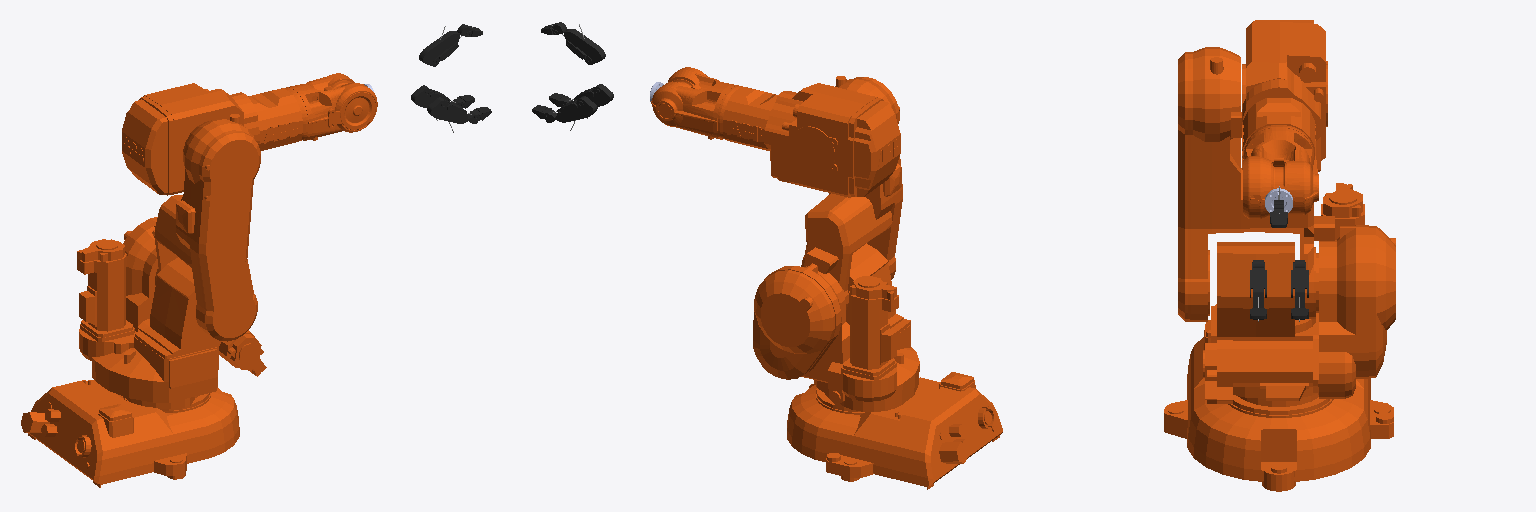
--- Render facts (derived) ---
3 views of the same robot in one strip: view 1: azimuth 30°, elevation 25°; view 2: azimuth 150°, elevation 25°; view 3: azimuth 270°, elevation 25° (orthographic).
Robot: IRB140 — 41 links, 40 joints (18 revolute, 18 continuous, 4 fixed); root link base_link; default pose: all joints at 0 but 3 set to mid-range because 0 is outside their limits (finger_1_fourbar_0_joint_0 = -1.18, finger_2_fourbar_0_joint_0 = -1.18, finger_middle_fourbar_0_joint_0 = -1.18).
Links seen in each view (by area): view 1: link_1, link_2, base_link, link_3, link_4, finger_middle_link_1, finger_2_link_1; view 2: link_1, base_link, link_3, link_2, link_4, finger_middle_link_1, finger_1_link_1; view 3: link_1, link_2, base_link, link_3, link_4, finger_1_link_1, finger_2_link_1.
Boxes of the visible links, x1,y1,x2,y2 form: link_1: [77, 217, 266, 410]; link_2: [152, 114, 260, 341]; base_link: [21, 380, 239, 487]; link_3: [122, 83, 302, 195]; link_4: [285, 73, 377, 140]; finger_middle_link_1: [419, 31, 460, 66]; finger_2_link_1: [427, 97, 468, 123]; link_1: [753, 243, 919, 411]; base_link: [787, 372, 1002, 489]; link_3: [723, 83, 900, 197]; link_2: [801, 76, 902, 309]; link_4: [651, 67, 741, 139]; finger_middle_link_1: [564, 29, 605, 64]; finger_1_link_1: [555, 96, 597, 122]; link_1: [1203, 183, 1395, 414]; link_2: [1178, 47, 1334, 321]; base_link: [1164, 320, 1393, 491]; link_3: [1231, 20, 1327, 171]; link_4: [1242, 125, 1318, 218]; finger_1_link_1: [1291, 260, 1308, 307]; finger_2_link_1: [1250, 260, 1266, 307].
Size in the robot's own frame: 1.11 by 0.4054 by 0.8342 metres.
13 mesh visuals loaded from 12 distinct referenced files (9 binary STL); not drawn: 7 (reference not matched to a file when rendering).

The robot description file, URDF, robot "IRB140":
<?xml version="1.0"?>
<!-- =================================================================================== -->
<!-- |    This document was autogenerated by xacro from irb_140_robotiq.xacro          | -->
<!-- |    EDITING THIS FILE BY HAND IS NOT RECOMMENDED                                 | -->
<!-- =================================================================================== -->
<robot xmlns:xacro="http://ros.org/wiki/xacro" name="IRB140">
  <link name="base_link">
    <inertial>
      <origin rpy="-1.57079 0 0" xyz="-0.0820393251688425 -0.0599247343482246 0.000402028640224033"/>
      <mass value="12.409016159487"/>
      <inertia ixx="0.104502176006253" ixy="0.00734284655670482" ixz="1.00520827530156E-05" iyy="0.246486764065977" iyz="0.000843006810157312" izz="0.16727784258504"/>
    </inertial>
    <visual>
      <origin rpy="-1.57079 0 0" xyz="0 0 0"/>
      <geometry>
        <mesh filename="package://IRB140/urdf/meshes/base_link.stl"/>
      </geometry>
      <material name="">
        <color rgba="0.890196078431373 0.411764705882353 0.125490196078431 1"/>
      </material>
    </visual>
    <collision>
      <origin rpy="-1.57079 0 0" xyz="0 0 0"/>
      <geometry>
        <mesh filename="package://IRB140/urdf/meshes/base_link.stl"/>
      </geometry>
    </collision>
  </link>
  <collision_filter_group name="base">
    <member link="base_link"/>
  </collision_filter_group>
  <collision_filter_group name="ignore_base">
    <member link="link_1"/>
  </collision_filter_group>
  <link name="link_1">
    <inertial>
      <origin rpy="0 0 0" xyz="0.0281052735195531 -0.263404021764231 0.0438145912936454"/>
      <mass value="16.287755696602"/>
      <inertia ixx="0.239763088891016" ixy="-0.0247090810274521" ixz="0.000698689923332581" iyy="0.215279593840589" iyz="-0.0324602456686847" izz="0.21738294278782"/>
    </inertial>
    <visual>
      <origin rpy="0 0 0" xyz="0 0.1095 0"/>
      <geometry>
        <mesh filename="package://IRB140/urdf/meshes/link1.stl"/>
      </geometry>
      <material name="">
        <color rgba="0.890196078431373 0.411764705882353 0.125490196078431 1"/>
      </material>
    </visual>
    <collision>
      <origin rpy="0 0 0" xyz="0 0.1095 0"/>
      <geometry>
        <mesh filename="package://IRB140/urdf/meshes/link1.stl"/>
      </geometry>
    </collision>
  </link>
  <link name="link_2">
    <inertial>
      <origin rpy="0 0 0" xyz="0.0602722328661623 -0.550288012476887 -0.0924337165442594"/>
      <mass value="7.58037424484438"/>
      <inertia ixx="0.155736578403723" ixy="-0.0018292494088038" ixz="-0.000516100043145016" iyy="0.0449374006069967" iyz="0.0179772597993246" izz="0.131499062854069"/>
    </inertial>
    <visual>
      <origin rpy="0 0 0" xyz="-0.07 0.352 0"/>
      <geometry>
        <mesh filename="package://IRB140/urdf/meshes/link2.stl"/>
      </geometry>
      <material name="">
        <color rgba="0.890196078431373 0.411764705882353 0.125490196078431 1"/>
      </material>
    </visual>
    <collision>
      <origin rpy="0 0 0" xyz="-0.07 0.352 0"/>
      <geometry>
        <mesh filename="package://IRB140/urdf/meshes/link2.stl"/>
      </geometry>
    </collision>
  </link>
  <link name="link_3">
    <inertial>
      <origin rpy="0 0 0" xyz="0.0895840773879386 -0.706321963929838 0.00750781548417993"/>
      <mass value="8.03072730997701"/>
      <inertia ixx="0.0322819185861096" ixy="0.00189304098071818" ixz="-0.00301812650515099" iyy="0.0862439596837411" iyz="0.000363121583074651" izz="0.0941344479457789"/>
    </inertial>
    <visual>
      <origin rpy="0 0 0" xyz="-0.07 0.712 0"/>
      <geometry>
        <mesh filename="package://IRB140/urdf/meshes/link3.stl"/>
      </geometry>
      <material name="">
        <color rgba="0.890196078431373 0.411764705882353 0.125490196078431 1"/>
      </material>
    </visual>
    <collision>
      <origin rpy="0 0 0" xyz="-0.07  0.712 0"/>
      <geometry>
        <mesh filename="package://IRB140/urdf/meshes/link3.stl"/>
      </geometry>
    </collision>
  </link>
  <link name="link_4">
    <inertial>
      <origin rpy="0 0 0" xyz="0.381567778909365 -0.710566670346653 -0.0012125731023236"/>
      <mass value="1.7702548022269"/>
      <inertia ixx="0.00345886724545012" ixy="-5.89845314013543E-05" ixz="-0.000204665310780048" iyy="0.00814796317500158" iyz="3.05102860299544E-06" izz="0.00727417938725734"/>
    </inertial>
    <visual>
      <origin rpy="0 0 0" xyz="-0.2885 0.712 0"/>
      <geometry>
        <mesh filename="package://IRB140/urdf/meshes/link4.stl"/>
      </geometry>
      <material name="">
        <color rgba="0.890196078431373 0.411764705882353 0.125490196078431 1"/>
      </material>
    </visual>
    <collision>
      <origin rpy="0 0 0" xyz="-0.2885 0.712 0"/>
      <geometry>
        <mesh filename="package://IRB140/urdf/meshes/link4.stl"/>
      </geometry>
    </collision>
  </link>
  <link name="link_5">
    <inertial>
      <origin rpy="0 0 0" xyz="0.4486171436144 -0.711838316531129 0.000617034654940496"/>
      <mass value="0.145550520315438"/>
      <inertia ixx="7.1482542749252E-05" ixy="4.08865519403599E-07" ixz="1.24002244883737E-07" iyy="6.88353185385481E-05" iyz="-1.00702333671187E-08" izz="0.000112132445217078"/>
    </inertial>
    <visual>
      <origin rpy="0 0 0" xyz="-0.450 0.712 0"/>
      <geometry>
        <mesh filename="package://IRB140/urdf/meshes/link5.stl"/>
      </geometry>
      <material name="">
        <color rgba="0.890196078431373 0.411764705882353 0.125490196078431 1"/>
      </material>
    </visual>
    <collision>
      <origin rpy="0 0 0" xyz="-0.450 0.712 0"/>
      <geometry>
        <mesh filename="package://IRB140/urdf/meshes/link5.stl"/>
      </geometry>
    </collision>
  </link>
  <link name="link_6">
    <inertial>
      <origin rpy="0 0 0" xyz="0.502059432845099 -0.711774967143511 2.38785136319277E-10"/>
      <mass value="0.0258654328719498"/>
      <inertia ixx="5.9822143548355E-06" ixy="4.58244484401765E-08" ixz="-3.33091906738059E-13" iyy="6.2921914507958E-06" iyz="6.75626369217644E-13" izz="6.17479327327778E-06"/>
    </inertial>
    <visual>
      <origin rpy="0 0 0" xyz="-0.515 0.712 0"/>
      <geometry>
        <mesh filename="package://IRB140/urdf/meshes/link6.stl"/>
      </geometry>
      <material name="">
        <color rgba="0.796078431372549 0.823529411764706 0.937254901960784 1"/>
      </material>
    </visual>
    <collision>
      <origin rpy="0 0 0" xyz="-0.515 0.712 0"/>
      <geometry>
        <mesh filename="package://IRB140/urdf/meshes/link6.stl"/>
      </geometry>
    </collision>
  </link>
  <joint name="joint1" type="revolute">
    <parent link="base_link"/>
    <child link="link_1"/>
    <limit effort="300" lower="-3.14159265359" upper="3.14159265359" velocity="4.36"/>
    <axis xyz="0 -1 0"/>
    <origin rpy="-1.57079 0 0" xyz="0 0 0.1095"/>
  </joint>
  <joint name="joint2" type="revolute">
    <parent link="link_1"/>
    <child link="link_2"/>
    <limit effort="300" lower="-1.57079633" upper="1.91986218" velocity="4.36"/>
    <axis xyz="0 0 1"/>
    <origin rpy="0 0 0" xyz="0.07 -0.2425 0"/>
  </joint>
  <joint name="joint3" type="revolute">
    <parent link="link_2"/>
    <child link="link_3"/>
    <limit effort="300" lower="-4.01425728" upper="0.87266463" velocity="4.36"/>
    <axis xyz="0 0 1"/>
    <origin rpy="0 0 0" xyz="0 -0.360 0"/>
  </joint>
  <joint name="joint4" type="revolute">
    <parent link="link_3"/>
    <child link="link_4"/>
    <limit effort="300" lower="-3.49065850" upper="3.49065850" velocity="5.58"/>
    <axis xyz="1 0 0"/>
    <origin rpy="0 0 0" xyz="0.2185 0 0"/>
  </joint>
  <joint name="joint5" type="revolute">
    <parent link="link_4"/>
    <child link="link_5"/>
    <limit effort="300" lower="-2.09439510" upper="2.09439510" velocity="5.58"/>
    <axis xyz="0 0 -1"/>
    <origin rpy="0 0 0" xyz="0.1615 0 0"/>
  </joint>
  <joint name="joint6" type="revolute">
    <parent link="link_5"/>
    <child link="link_6"/>
    <limit effort="300" lower="-6.98131701" upper="6.98131701" velocity="7.33"/>
    <axis xyz="1 0 0"/>
    <origin rpy="0 0 0" xyz="0.065 0 0"/>
  </joint>
  <transmission name="joint1_trans" type="SimpleTransmission">
    <joint name="joint1"/>
    <actuator name="joint1_motor"/>
    <mechanicalReduction>1</mechanicalReduction>
  </transmission>
  <transmission name="joint2_trans" type="SimpleTransmission">
    <joint name="joint2"/>
    <actuator name="joint2_motor"/>
    <mechanicalReduction>1</mechanicalReduction>
  </transmission>
  <transmission name="joint3_trans" type="SimpleTransmission">
    <joint name="joint3"/>
    <actuator name="joint3_motor"/>
    <mechanicalReduction>1</mechanicalReduction>
  </transmission>
  <transmission name="joint4_trans" type="SimpleTransmission">
    <joint name="joint4"/>
    <actuator name="joint4_motor"/>
    <mechanicalReduction>1</mechanicalReduction>
  </transmission>
  <transmission name="joint5_trans" type="SimpleTransmission">
    <joint name="joint5"/>
    <actuator name="joint5_motor"/>
    <mechanicalReduction>1</mechanicalReduction>
  </transmission>
  <transmission name="joint6_trans" type="SimpleTransmission">
    <joint name="joint6"/>
    <actuator name="joint6_motor"/>
    <mechanicalReduction>1</mechanicalReduction>
  </transmission>
  <link name="finger_1_link_0">
    <visual>
      <origin rpy="0 0 0" xyz="0.020 0 0"/>
      <geometry>
        <mesh filename="package://Atlas/urdf/meshes/s-model_articulated/visual/link_0.STL"/>
      </geometry>
      <material name="black">
        <color rgba=".2 .2 .2 1"/>
      </material>
    </visual>
    <!--<collision>	
				<origin xyz="-0.0455 0.0414 0.036" rpy="0 3.1416 -1.57"/>
				<geometry>
					<mesh filename="package://Atlas/urdf/meshes/s-model_articulated/collision/link_0.STL" />
				</geometry>
				<material name="yellow">
					<color rgba="0 1 1 1"/>
				</material>
			</collision>-->
    <inertial>
      <origin rpy="0 0 0" xyz="0 0 0"/>
      <mass value="0.05"/>
      <inertia ixx="0.01" ixy="-0.00002" ixz="0.00001" iyy="0.0008" iyz="0" izz="0.001"/>
    </inertial>
  </link>
  <link name="finger_1_link_1">
    <visual>
      <origin rpy="0 0 -0.52" xyz="0.050 -.028 0"/>
      <geometry>
        <mesh filename="package://Atlas/urdf/meshes/s-model_articulated/visual/link_1.STL"/>
      </geometry>
      <material name="black"/>
    </visual>
    <collision>
      <origin rpy="0 0 -0.52" xyz="0.03 -0.0145 0"/>
      <geometry>
        <box size=".028 .01 .03"/>
      </geometry>
      <material name="yellow">
        <color rgba="0 1 1 1"/>
      </material>
    </collision>
    <inertial>
      <origin rpy="0 0 0" xyz="0 0 0"/>
      <mass value="0.15"/>
      <inertia ixx="0.001859" ixy="-0.000376" ixz="0.000028" iyy="0.012756" iyz="0" izz="0.0024"/>
    </inertial>
  </link>
  <link name="finger_1_link_2">
    <!--
			NOTE: This link has an offset in the z-direction based on the models that were
			used to generate grap-it poses.  With the offset below the model appears visually
			correct, but it is suspect.
			-->
    <visual>
      <origin rpy="0 0 0" xyz="0.039 0 0.0075"/>
      <geometry>
        <mesh filename="package://Atlas/urdf/meshes/s-model_articulated/visual/link_2.STL"/>
      </geometry>
      <material name="black"/>
    </visual>
    <collision>
      <origin rpy="0 0 0" xyz="0.02 0.0025 -0.0005"/>
      <geometry>
        <box size=".018 .01 .03"/>
      </geometry>
      <material name="yellow"/>
    </collision>
    <inertial>
      <origin rpy="0 0 0" xyz="0 0 0"/>
      <mass value="0.15"/>
      <inertia ixx="0.001859" ixy="-0.000376" ixz="0.000028" iyy="0.012756" iyz="0" izz="0.0024"/>
    </inertial>
  </link>
  <link name="finger_1_link_3">
    <visual>
      <origin rpy="0 0 0.52" xyz="0 0 0"/>
      <geometry>
        <mesh filename="package://Atlas/urdf/meshes/s-model_articulated/visual/link_3.STL"/>
      </geometry>
      <material name="black"/>
    </visual>
    <collision>
      <origin rpy="0 0 .52" xyz="0.02 0.015 0"/>
      <geometry>
        <box size=".025 .01 .03"/>
      </geometry>
      <material name="yellow"/>
    </collision>
    <inertial>
      <origin rpy="0 0 0" xyz="0 0 0"/>
      <mass value="0.05"/>
      <inertia ixx="0.001239" ixy="-0.000251" ixz="0.000019" iyy="0.00085" iyz="0" izz="0.001632"/>
    </inertial>
  </link>
  <link name="finger_1_fourbar_0_link_1">
    <inertial>
      <mass value="0.00001"/>
      <inertia ixx="0.00001" ixy="0" ixz="0" iyy="0.00001" iyz="0" izz="0.00001"/>
    </inertial>
    <visual>
      <origin rpy="0 1.57 0" xyz=".01429 0 0"/>
      <geometry>
        <cylinder length=".02858" radius="0.001"/>
      </geometry>
      <material name="fourbar">
        <color rgba=".6353 .6353 .6353 1"/>
      </material>
    </visual>
  </link>
  <link name="finger_1_fourbar_0_link_2">
    <inertial>
      <mass value="0.00001"/>
      <inertia ixx="0.00001" ixy="0" ixz="0" iyy="0.00001" iyz="0" izz="0.00001"/>
    </inertial>
    <visual>
      <origin rpy="0 1.57 0" xyz=".02699 0 0"/>
      <geometry>
        <cylinder length=".05398" radius="0.001"/>
      </geometry>
      <material name="fourbar">
        <color rgba=".6353 .6353 .6353 1"/>
      </material>
    </visual>
  </link>
  <link name="finger_1_fourbar_0_link_3">
    <inertial>
      <mass value="0.00001"/>
      <inertia ixx="0.00001" ixy="0" ixz="0" iyy="0.00001" iyz="0" izz="0.00001"/>
    </inertial>
    <visual>
      <origin rpy="0 1.57 0" xyz=".007365 0 0"/>
      <geometry>
        <cylinder length=".01473" radius="0.001"/>
      </geometry>
      <material name="fourbar">
        <color rgba=".6353 .6353 .6353 1"/>
      </material>
    </visual>
  </link>
  <link name="finger_1_fourbar_3_link_1">
    <inertial>
      <mass value="0.00001"/>
      <inertia ixx="0.00001" ixy="0" ixz="0" iyy="0.00001" iyz="0" izz="0.00001"/>
    </inertial>
    <visual>
      <origin rpy="0 1.57 0" xyz=".01111 0 0"/>
      <geometry>
        <cylinder length=".02222" radius="0.001"/>
      </geometry>
      <material name="fourbar">
        <color rgba=".6353 .6353 .6353 1"/>
      </material>
    </visual>
  </link>
  <link name="finger_1_fourbar_3_link_2">
    <inertial>
      <mass value="0.00001"/>
      <inertia ixx="0.00001" ixy="0" ixz="0" iyy="0.00001" iyz="0" izz="0.00001"/>
    </inertial>
    <visual>
      <origin rpy="0 1.57 0" xyz=".01905 0 0"/>
      <geometry>
        <cylinder length=".03810" radius="0.001"/>
      </geometry>
      <material name="fourbar">
        <color rgba=".6353 .6353 .6353 1"/>
      </material>
    </visual>
  </link>
  <link name="finger_1_fourbar_3_link_3">
    <inertial>
      <mass value="0.00001"/>
      <inertia ixx="0.00001" ixy="0" ixz="0" iyy="0.00001" iyz="0" izz="0.00001"/>
    </inertial>
    <visual>
      <origin rpy="0 1.57 0" xyz=".00635 0 0"/>
      <geometry>
        <cylinder length=".01270" radius="0.001"/>
      </geometry>
      <material name="fourbar">
        <color rgba=".6353 .6353 .6353 1"/>
      </material>
    </visual>
  </link>
  <link name="finger_1_fourbar_linkage">
    <inertial>
      <mass value="0.00001"/>
      <inertia ixx="0.00001" ixy="0" ixz="0" iyy="0.00001" iyz="0" izz="0.00001"/>
    </inertial>
    <visual>
      <origin rpy="0 1.57 0" xyz=".007618 0 0"/>
      <geometry>
        <cylinder length=".015236" radius="0.001"/>
      </geometry>
      <material name="fourbar">
        <color rgba=".6353 .6353 .6353 1"/>
      </material>
    </visual>
  </link>
  <joint name="finger_1_joint_0" type="revolute">
    <parent link="finger_1_link_0"/>
    <child link="finger_1_link_1"/>
    <axis xyz="0 0 1"/>
    <origin rpy="0 0 0" xyz="0.020 0 0"/>
    <limit effort="100" lower="0" upper="1.055" velocity="100"/>
  </joint>
  <joint name="finger_1_joint_1" type="revolute">
    <parent link="finger_1_link_1"/>
    <child link="finger_1_link_2"/>
    <axis xyz="0 0 1"/>
    <origin rpy="0 0 -0.52" xyz="0.050 -.028 0"/>
    <limit effort="100" lower="0" upper="1.5708" velocity="100"/>
  </joint>
  <joint name="finger_1_joint_2" type="revolute">
    <parent link="finger_1_link_2"/>
    <child link="finger_1_link_3"/>
    <axis xyz="0 0 1"/>
    <origin rpy="0 0 0" xyz="0.039 0 0"/>
    <limit effort="100" lower="-0.7854" upper="3.1416" velocity="100"/>
  </joint>
  <joint name="finger_1_fourbar_0_joint_0" type="revolute">
    <axis xyz="0 0 1"/>
    <parent link="finger_1_link_0"/>
    <child link="finger_1_fourbar_0_link_1"/>
    <origin rpy="0 0 0" xyz="0.020 0 0"/>
    <limit effort="100" lower="-2.10" upper="-0.255" velocity="100"/>
  </joint>
  <joint name="finger_1_fourbar_0_joint_1" type="continuous">
    <axis xyz="0 0 1"/>
    <parent link="finger_1_fourbar_0_link_1"/>
    <child link="finger_1_fourbar_0_link_2"/>
    <origin rpy="0 0 0" xyz=".02858 0 0"/>
    <limit effort="100" lower="1.092" upper="1.940" velocity="100"/>
  </joint>
  <joint name="finger_1_fourbar_0_joint_2" type="continuous">
    <axis xyz="0 0 1"/>
    <parent link="finger_1_link_1"/>
    <child link="finger_1_fourbar_0_link_3"/>
    <origin rpy="0 0 -0.52" xyz="0.050 -.028 0"/>
    <limit effort="100" lower="-2.111" upper="-0.199" velocity="100"/>
  </joint>
  <loop_joint name="finger_1_fourbar_0_joint_3" type="continuous">
    <axis xyz="0 0 1"/>
    <link1 link="finger_1_fourbar_0_link_2" rpy="0 0 0" xyz=".05398 0 0"/>
    <link2 link="finger_1_fourbar_0_link_3" rpy="0 0 0" xyz=".01473 0 0"/>
  </loop_joint>
  <joint name="finger_1_fourbar_3_joint_0" type="continuous">
    <axis xyz="0 0 1"/>
    <parent link="finger_1_link_2"/>
    <child link="finger_1_fourbar_3_link_1"/>
    <origin rpy="0 0 0" xyz="0 0 0"/>
    <limit effort="100" lower="-1.367" upper="-0.945" velocity="100"/>
  </joint>
  <joint name="finger_1_fourbar_3_joint_1" type="continuous">
    <axis xyz="0 0 1"/>
    <parent link="finger_1_fourbar_3_link_1"/>
    <child link="finger_1_fourbar_3_link_2"/>
    <origin rpy="0 0 0" xyz="0.02222 0 0"/>
    <limit effort="100" lower="1.235" upper="1.613" velocity="100"/>
  </joint>
  <joint name="finger_1_fourbar_3_joint_2" type="continuous">
    <axis xyz="0 0 1"/>
    <parent link="finger_1_link_3"/>
    <child link="finger_1_fourbar_3_link_3"/>
    <origin rpy="0 0 0" xyz="0 0 0"/>
    <limit effort="100" lower="-1.367" upper="-0.995" velocity="100"/>
  </joint>
  <loop_joint name="finger_1_fourbar_3_joint_3" type="continuous">
    <axis xyz="0 0 1"/>
    <link1 link="finger_1_fourbar_3_link_3" rpy="0 0 0" xyz="0.01270 0 0"/>
    <link2 link="finger_1_fourbar_3_link_2" rpy="0 0 0" xyz="0.03810 0 0"/>
  </loop_joint>
  <joint name="finger_1_fourbar_linkage_joint_0" type="continuous">
    <axis xyz="0 0 1"/>
    <parent link="finger_1_fourbar_0_link_3"/>
    <child link="finger_1_fourbar_linkage"/>
    <origin rpy="0 0 0" xyz=".01473 0 0"/>
    <limit effort="100" lower="1.4" upper="1.5" velocity="100"/>
  </joint>
  <loop_joint name="finger_1_fourbar_linkage_joint_1" type="continuous">
    <axis xyz="0 0 1"/>
    <link1 link="finger_1_fourbar_linkage" rpy="0 0 0" xyz=".015236 0 0"/>
    <link2 link="finger_1_fourbar_3_link_1" rpy="0 0 0" xyz=".02222 0 0"/>
  </loop_joint>
  <gazebo reference="finger_1_link_0">
    <material>Gazebo/FlatBlack</material>
    <turnGravityOff>true</turnGravityOff>
  </gazebo>
  <gazebo reference="finger_1_link_1">
    <material>Gazebo/FlatBlack</material>
    <turnGravityOff>true</turnGravityOff>
  </gazebo>
  <gazebo reference="finger_1_link_2">
    <material>Gazebo/FlatBlack</material>
    <turnGravityOff>true</turnGravityOff>
  </gazebo>
  <gazebo reference="finger_1_link_3">
    <material>Gazebo/FlatBlack</material>
    <turnGravityOff>true</turnGravityOff>
  </gazebo>
  <gazebo reference="finger_1_fourbar_0_link_1">
    <material>Gazebo/FlatBlack</material>
    <turnGravityOff>true</turnGravityOff>
  </gazebo>
  <gazebo reference="finger_1_fourbar_0_link_2">
    <material>Gazebo/FlatBlack</material>
    <turnGravityOff>true</turnGravityOff>
  </gazebo>
  <gazebo reference="finger_1_fourbar_0_link_3">
    <material>Gazebo/FlatBlack</material>
    <turnGravityOff>true</turnGravityOff>
  </gazebo>
  <gazebo reference="finger_1_fourbar_3_link_1">
    <material>Gazebo/FlatBlack</material>
    <turnGravityOff>true</turnGravityOff>
  </gazebo>
  <gazebo reference="finger_1_fourbar_3_link_2">
    <material>Gazebo/FlatBlack</material>
    <turnGravityOff>true</turnGravityOff>
  </gazebo>
  <gazebo reference="finger_1_fourbar_3_link_3">
    <material>Gazebo/FlatBlack</material>
    <turnGravityOff>true</turnGravityOff>
  </gazebo>
  <gazebo reference="finger_1_fourbar_linkage">
    <material>Gazebo/FlatBlack</material>
    <turnGravityOff>true</turnGravityOff>
  </gazebo>
  <transmission name="finger_1_fourbar_0_joint_0_trans" type="SimpleTransmission">
    <actuator name="finger_1_control_torque"/>
    <joint name="finger_1_fourbar_0_joint_0"/>
    <mechanicalReduction>1</mechanicalReduction>
  </transmission>
  <link name="finger_2_link_0">
    <visual>
      <origin rpy="0 0 0" xyz="0.020 0 0"/>
      <geometry>
        <mesh filename="package://Atlas/urdf/meshes/s-model_articulated/visual/link_0.STL"/>
      </geometry>
      <material name="black">
        <color rgba=".2 .2 .2 1"/>
      </material>
    </visual>
    <!--<collision>	
				<origin xyz="-0.0455 0.0414 0.036" rpy="0 3.1416 -1.57"/>
				<geometry>
					<mesh filename="package://Atlas/urdf/meshes/s-model_articulated/collision/link_0.STL" />
				</geometry>
				<material name="yellow">
					<color rgba="0 1 1 1"/>
				</material>
			</collision>-->
    <inertial>
      <origin rpy="0 0 0" xyz="0 0 0"/>
      <mass value="0.05"/>
      <inertia ixx="0.01" ixy="-0.00002" ixz="0.00001" iyy="0.0008" iyz="0" izz="0.001"/>
    </inertial>
  </link>
  <link name="finger_2_link_1">
    <visual>
      <origin rpy="0 0 -0.52" xyz="0.050 -.028 0"/>
      <geometry>
        <mesh filename="package://Atlas/urdf/meshes/s-model_articulated/visual/link_1.STL"/>
      </geometry>
      <material name="black"/>
    </visual>
    <collision>
      <origin rpy="0 0 -0.52" xyz="0.03 -0.0145 0"/>
      <geometry>
        <box size=".028 .01 .03"/>
      </geometry>
      <material name="yellow"/>
    </collision>
    <inertial>
      <origin rpy="0 0 0" xyz="0 0 0"/>
      <mass value="0.15"/>
      <inertia ixx="0.001859" ixy="-0.000376" ixz="0.000028" iyy="0.012756" iyz="0" izz="0.0024"/>
    </inertial>
  </link>
  <link name="finger_2_link_2">
    <!--
			NOTE: This link has an offset in the z-direction based on the models that were
			used to generate grap-it poses.  With the offset below the model appears visually
			correct, but it is suspect.
			-->
    <visual>
      <origin rpy="0 0 0" xyz="0.039 0 0.0075"/>
      <geometry>
        <mesh filename="package://Atlas/urdf/meshes/s-model_articulated/visual/link_2.STL"/>
      </geometry>
      <material name="black"/>
    </visual>
    <collision>
      <origin rpy="0 0 0" xyz="0.02 0.0025 -0.0005"/>
      <geometry>
        <box size=".018 .01 .03"/>
      </geometry>
      <material name="yellow"/>
    </collision>
    <inertial>
      <origin rpy="0 0 0" xyz="0 0 0"/>
      <mass value="0.15"/>
      <inertia ixx="0.001859" ixy="-0.000376" ixz="0.000028" iyy="0.012756" iyz="0" izz="0.0024"/>
    </inertial>
  </link>
  <link name="finger_2_link_3">
    <visual>
      <origin rpy="0 0 0.52" xyz="0 0 0"/>
      <geometry>
        <mesh filename="package://Atlas/urdf/meshes/s-model_articulated/visual/link_3.STL"/>
      </geometry>
      <material name="black"/>
    </visual>
    <collision>
      <origin rpy="0 0 .52" xyz="0.02 0.015 0"/>
      <geometry>
        <box size=".025 .01 .03"/>
      </geometry>
      <material name="yellow"/>
    </collision>
    <inertial>
      <origin rpy="0 0 0" xyz="0 0 0"/>
      <mass value="0.05"/>
      <inertia ixx="0.001239" ixy="-0.000251" ixz="0.000019" iyy="0.00085" iyz="0" izz="0.001632"/>
    </inertial>
  </link>
  <link name="finger_2_fourbar_0_link_1">
    <inertial>
      <mass value="0.00001"/>
      <inertia ixx="0.00001" ixy="0" ixz="0" iyy="0.00001" iyz="0" izz="0.00001"/>
    </inertial>
    <visual>
      <origin rpy="0 1.57 0" xyz=".01429 0 0"/>
      <geometry>
        <cylinder length=".02858" radius="0.001"/>
      </geometry>
      <material name="fourbar">
        <color rgba=".6353 .6353 .6353 1"/>
      </material>
    </visual>
  </link>
  <link name="finger_2_fourbar_0_link_2">
    <inertial>
      <mass value="0.00001"/>
      <inertia ixx="0.00001" ixy="0" ixz="0" iyy="0.00001" iyz="0" izz="0.00001"/>
    </inertial>
    <visual>
      <origin rpy="0 1.57 0" xyz=".02699 0 0"/>
      <geometry>
        <cylinder length=".05398" radius="0.001"/>
      </geometry>
      <material name="fourbar">
        <color rgba=".6353 .6353 .6353 1"/>
      </material>
    </visual>
  </link>
  <link name="finger_2_fourbar_0_link_3">
    <inertial>
      <mass value="0.00001"/>
      <inertia ixx="0.00001" ixy="0" ixz="0" iyy="0.00001" iyz="0" izz="0.00001"/>
    </inertial>
    <visual>
      <origin rpy="0 1.57 0" xyz=".007365 0 0"/>
      <geometry>
        <cylinder length=".01473" radius="0.001"/>
      </geometry>
      <material name="fourbar">
        <color rgba=".6353 .6353 .6353 1"/>
      </material>
    </visual>
  </link>
  <link name="finger_2_fourbar_3_link_1">
    <inertial>
      <mass value="0.00001"/>
      <inertia ixx="0.00001" ixy="0" ixz="0" iyy="0.00001" iyz="0" izz="0.00001"/>
    </inertial>
    <visual>
      <origin rpy="0 1.57 0" xyz=".01111 0 0"/>
      <geometry>
        <cylinder length=".02222" radius="0.001"/>
      </geometry>
      <material name="fourbar">
        <color rgba=".6353 .6353 .6353 1"/>
      </material>
    </visual>
  </link>
  <link name="finger_2_fourbar_3_link_2">
    <inertial>
      <mass value="0.00001"/>
      <inertia ixx="0.00001" ixy="0" ixz="0" iyy="0.00001" iyz="0" izz="0.00001"/>
    </inertial>
    <visual>
      <origin rpy="0 1.57 0" xyz=".01905 0 0"/>
      <geometry>
        <cylinder length=".03810" radius="0.001"/>
      </geometry>
      <material name="fourbar">
        <color rgba=".6353 .6353 .6353 1"/>
      </material>
    </visual>
  </link>
  <link name="finger_2_fourbar_3_link_3">
    <inertial>
      <mass value="0.00001"/>
      <inertia ixx="0.00001" ixy="0" ixz="0" iyy="0.00001" iyz="0" izz="0.00001"/>
    </inertial>
    <visual>
      <origin rpy="0 1.57 0" xyz=".00635 0 0"/>
      <geometry>
        <cylinder length=".01270" radius="0.001"/>
      </geometry>
      <material name="fourbar">
        <color rgba=".6353 .6353 .6353 1"/>
      </material>
    </visual>
  </link>
  <link name="finger_2_fourbar_linkage">
    <inertial>
      <mass value="0.00001"/>
      <inertia ixx="0.00001" ixy="0" ixz="0" iyy="0.00001" iyz="0" izz="0.00001"/>
    </inertial>
    <visual>
      <origin rpy="0 1.57 0" xyz=".007618 0 0"/>
      <geometry>
        <cylinder length=".015236" radius="0.001"/>
      </geometry>
      <material name="fourbar">
        <color rgba=".6353 .6353 .6353 1"/>
      </material>
    </visual>
  </link>
  <joint name="finger_2_joint_0" type="revolute">
    <parent link="finger_2_link_0"/>
    <child link="finger_2_link_1"/>
    <axis xyz="0 0 1"/>
    <origin rpy="0 0 0" xyz="0.020 0 0"/>
    <limit effort="100" lower="0" upper="1.055" velocity="100"/>
  </joint>
  <joint name="finger_2_joint_1" type="revolute">
    <parent link="finger_2_link_1"/>
    <child link="finger_2_link_2"/>
    <axis xyz="0 0 1"/>
    <origin rpy="0 0 -0.52" xyz="0.050 -.028 0"/>
    <limit effort="100" lower="0" upper="1.5708" velocity="100"/>
  </joint>
  <joint name="finger_2_joint_2" type="revolute">
    <parent link="finger_2_link_2"/>
    <child link="finger_2_link_3"/>
    <axis xyz="0 0 1"/>
    <origin rpy="0 0 0" xyz="0.039 0 0"/>
    <limit effort="100" lower="-0.7854" upper="3.1416" velocity="100"/>
  </joint>
  <joint name="finger_2_fourbar_0_joint_0" type="revolute">
    <axis xyz="0 0 1"/>
    <parent link="finger_2_link_0"/>
    <child link="finger_2_fourbar_0_link_1"/>
    <origin rpy="0 0 0" xyz="0.020 0 0"/>
    <limit effort="100" lower="-2.10" upper="-0.255" velocity="100"/>
  </joint>
  <joint name="finger_2_fourbar_0_joint_1" type="continuous">
    <axis xyz="0 0 1"/>
    <parent link="finger_2_fourbar_0_link_1"/>
    <child link="finger_2_fourbar_0_link_2"/>
    <origin rpy="0 0 0" xyz=".02858 0 0"/>
    <limit effort="100" lower="1.092" upper="1.940" velocity="100"/>
  </joint>
  <joint name="finger_2_fourbar_0_joint_2" type="continuous">
    <axis xyz="0 0 1"/>
    <parent link="finger_2_link_1"/>
    <child link="finger_2_fourbar_0_link_3"/>
    <origin rpy="0 0 -0.52" xyz="0.050 -.028 0"/>
    <limit effort="100" lower="-2.111" upper="-0.199" velocity="100"/>
  </joint>
  <loop_joint name="finger_2_fourbar_0_joint_3" type="continuous">
    <axis xyz="0 0 1"/>
    <link1 link="finger_2_fourbar_0_link_2" rpy="0 0 0" xyz=".05398 0 0"/>
    <link2 link="finger_2_fourbar_0_link_3" rpy="0 0 0" xyz=".01473 0 0"/>
  </loop_joint>
  <joint name="finger_2_fourbar_3_joint_0" type="continuous">
    <axis xyz="0 0 1"/>
    <parent link="finger_2_link_2"/>
    <child link="finger_2_fourbar_3_link_1"/>
    <origin rpy="0 0 0" xyz="0 0 0"/>
    <limit effort="100" lower="-1.367" upper="-0.945" velocity="100"/>
  </joint>
  <joint name="finger_2_fourbar_3_joint_1" type="continuous">
    <axis xyz="0 0 1"/>
    <parent link="finger_2_fourbar_3_link_1"/>
    <child link="finger_2_fourbar_3_link_2"/>
    <origin rpy="0 0 0" xyz="0.02222 0 0"/>
    <limit effort="100" lower="1.235" upper="1.613" velocity="100"/>
  </joint>
  <joint name="finger_2_fourbar_3_joint_2" type="continuous">
    <axis xyz="0 0 1"/>
    <parent link="finger_2_link_3"/>
    <child link="finger_2_fourbar_3_link_3"/>
    <origin rpy="0 0 0" xyz="0 0 0"/>
    <limit effort="100" lower="-1.367" upper="-0.995" velocity="100"/>
  </joint>
  <loop_joint name="finger_2_fourbar_3_joint_3" type="continuous">
    <axis xyz="0 0 1"/>
    <link1 link="finger_2_fourbar_3_link_3" rpy="0 0 0" xyz="0.01270 0 0"/>
    <link2 link="finger_2_fourbar_3_link_2" rpy="0 0 0" xyz="0.03810 0 0"/>
  </loop_joint>
  <joint name="finger_2_fourbar_linkage_joint_0" type="continuous">
    <axis xyz="0 0 1"/>
    <parent link="finger_2_fourbar_0_link_3"/>
    <child link="finger_2_fourbar_linkage"/>
    <origin rpy="0 0 0" xyz=".01473 0 0"/>
    <limit effort="100" lower="1.4" upper="1.5" velocity="100"/>
  </joint>
  <loop_joint name="finger_2_fourbar_linkage_joint_1" type="continuous">
    <axis xyz="0 0 1"/>
    <link1 link="finger_2_fourbar_linkage" rpy="0 0 0" xyz=".015236 0 0"/>
    <link2 link="finger_2_fourbar_3_link_1" rpy="0 0 0" xyz=".02222 0 0"/>
  </loop_joint>
  <gazebo reference="finger_2_link_0">
    <material>Gazebo/FlatBlack</material>
    <turnGravityOff>true</turnGravityOff>
  </gazebo>
  <gazebo reference="finger_2_link_1">
    <material>Gazebo/FlatBlack</material>
    <turnGravityOff>true</turnGravityOff>
  </gazebo>
  <gazebo reference="finger_2_link_2">
    <material>Gazebo/FlatBlack</material>
    <turnGravityOff>true</turnGravityOff>
  </gazebo>
  <gazebo reference="finger_2_link_3">
    <material>Gazebo/FlatBlack</material>
    <turnGravityOff>true</turnGravityOff>
  </gazebo>
  <gazebo reference="finger_2_fourbar_0_link_1">
    <material>Gazebo/FlatBlack</material>
    <turnGravityOff>true</turnGravityOff>
  </gazebo>
  <gazebo reference="finger_2_fourbar_0_link_2">
    <material>Gazebo/FlatBlack</material>
    <turnGravityOff>true</turnGravityOff>
  </gazebo>
  <gazebo reference="finger_2_fourbar_0_link_3">
    <material>Gazebo/FlatBlack</material>
    <turnGravityOff>true</turnGravityOff>
  </gazebo>
  <gazebo reference="finger_2_fourbar_3_link_1">
    <material>Gazebo/FlatBlack</material>
    <turnGravityOff>true</turnGravityOff>
  </gazebo>
  <gazebo reference="finger_2_fourbar_3_link_2">
    <material>Gazebo/FlatBlack</material>
    <turnGravityOff>true</turnGravityOff>
  </gazebo>
  <gazebo reference="finger_2_fourbar_3_link_3">
    <material>Gazebo/FlatBlack</material>
    <turnGravityOff>true</turnGravityOff>
  </gazebo>
  <gazebo reference="finger_2_fourbar_linkage">
    <material>Gazebo/FlatBlack</material>
    <turnGravityOff>true</turnGravityOff>
  </gazebo>
  <transmission name="finger_2_fourbar_0_joint_0_trans" type="SimpleTransmission">
    <actuator name="finger_2_control_torque"/>
    <joint name="finger_2_fourbar_0_joint_0"/>
    <mechanicalReduction>1</mechanicalReduction>
  </transmission>
  <link name="finger_middle_link_0">
    <visual>
      <origin rpy="0 0 0" xyz="0.020 0 0"/>
      <geometry>
        <mesh filename="package://Atlas/urdf/meshes/s-model_articulated/visual/link_0.STL"/>
      </geometry>
      <material name="black">
        <color rgba=".2 .2 .2 1"/>
      </material>
    </visual>
    <!--<collision>	
				<origin xyz="-0.0455 0.0414 0.036" rpy="0 3.1416 -1.57"/>
				<geometry>
					<mesh filename="package://Atlas/urdf/meshes/s-model_articulated/collision/link_0.STL" />
				</geometry>
				<material name="yellow">
					<color rgba="0 1 1 1"/>
				</material>
			</collision>-->
    <inertial>
      <origin rpy="0 0 0" xyz="0 0 0"/>
      <mass value="0.05"/>
      <inertia ixx="0.01" ixy="-0.00002" ixz="0.00001" iyy="0.0008" iyz="0" izz="0.001"/>
    </inertial>
  </link>
  <link name="finger_middle_link_1">
    <visual>
      <origin rpy="0 0 -0.52" xyz="0.050 -.028 0"/>
      <geometry>
        <mesh filename="package://Atlas/urdf/meshes/s-model_articulated/visual/link_1.STL"/>
      </geometry>
      <material name="black"/>
    </visual>
    <collision>
      <origin rpy="0 0 -0.52" xyz="0.03 -0.0145 0"/>
      <geometry>
        <box size=".028 .01 .03"/>
      </geometry>
      <material name="yellow"/>
    </collision>
    <inertial>
      <origin rpy="0 0 0" xyz="0 0 0"/>
      <mass value="0.15"/>
      <inertia ixx="0.001859" ixy="-0.000376" ixz="0.000028" iyy="0.012756" iyz="0" izz="0.0024"/>
    </inertial>
  </link>
  <link name="finger_middle_link_2">
    <!--
			NOTE: This link has an offset in the z-direction based on the models that were
			used to generate grap-it poses.  With the offset below the model appears visually
			correct, but it is suspect.
			-->
    <visual>
      <origin rpy="0 0 0" xyz="0.039 0 0.0075"/>
      <geometry>
        <mesh filename="package://Atlas/urdf/meshes/s-model_articulated/visual/link_2.STL"/>
      </geometry>
      <material name="black"/>
    </visual>
    <collision>
      <origin rpy="0 0 0" xyz="0.02 0.0025 -0.0005"/>
      <geometry>
        <box size=".018 .01 .03"/>
      </geometry>
      <material name="yellow"/>
    </collision>
    <inertial>
      <origin rpy="0 0 0" xyz="0 0 0"/>
      <mass value="0.15"/>
      <inertia ixx="0.001859" ixy="-0.000376" ixz="0.000028" iyy="0.012756" iyz="0" izz="0.0024"/>
    </inertial>
  </link>
  <link name="finger_middle_link_3">
    <visual>
      <origin rpy="0 0 0.52" xyz="0 0 0"/>
      <geometry>
        <mesh filename="package://Atlas/urdf/meshes/s-model_articulated/visual/link_3.STL"/>
      </geometry>
      <material name="black"/>
    </visual>
    <collision>
      <origin rpy="0 0 .52" xyz="0.02 0.015 0"/>
      <geometry>
        <box size=".025 .01 .03"/>
      </geometry>
      <material name="yellow"/>
    </collision>
    <inertial>
      <origin rpy="0 0 0" xyz="0 0 0"/>
      <mass value="0.05"/>
      <inertia ixx="0.001239" ixy="-0.000251" ixz="0.000019" iyy="0.00085" iyz="0" izz="0.001632"/>
    </inertial>
  </link>
  <link name="finger_middle_fourbar_0_link_1">
    <inertial>
      <mass value="0.00001"/>
      <inertia ixx="0.00001" ixy="0" ixz="0" iyy="0.00001" iyz="0" izz="0.00001"/>
    </inertial>
    <visual>
      <origin rpy="0 1.57 0" xyz=".01429 0 0"/>
      <geometry>
        <cylinder length=".02858" radius="0.001"/>
      </geometry>
      <material name="fourbar">
        <color rgba=".6353 .6353 .6353 1"/>
      </material>
    </visual>
  </link>
  <link name="finger_middle_fourbar_0_link_2">
    <inertial>
      <mass value="0.00001"/>
      <inertia ixx="0.00001" ixy="0" ixz="0" iyy="0.00001" iyz="0" izz="0.00001"/>
    </inertial>
    <visual>
      <origin rpy="0 1.57 0" xyz=".02699 0 0"/>
      <geometry>
        <cylinder length=".05398" radius="0.001"/>
      </geometry>
      <material name="fourbar">
        <color rgba=".6353 .6353 .6353 1"/>
      </material>
    </visual>
  </link>
  <link name="finger_middle_fourbar_0_link_3">
    <inertial>
      <mass value="0.00001"/>
      <inertia ixx="0.00001" ixy="0" ixz="0" iyy="0.00001" iyz="0" izz="0.00001"/>
    </inertial>
    <visual>
      <origin rpy="0 1.57 0" xyz=".007365 0 0"/>
      <geometry>
        <cylinder length=".01473" radius="0.001"/>
      </geometry>
      <material name="fourbar">
        <color rgba=".6353 .6353 .6353 1"/>
      </material>
    </visual>
  </link>
  <link name="finger_middle_fourbar_3_link_1">
    <inertial>
      <mass value="0.00001"/>
      <inertia ixx="0.00001" ixy="0" ixz="0" iyy="0.00001" iyz="0" izz="0.00001"/>
    </inertial>
    <visual>
      <origin rpy="0 1.57 0" xyz=".01111 0 0"/>
      <geometry>
        <cylinder length=".02222" radius="0.001"/>
      </geometry>
      <material name="fourbar">
        <color rgba=".6353 .6353 .6353 1"/>
      </material>
    </visual>
  </link>
  <link name="finger_middle_fourbar_3_link_2">
    <inertial>
      <mass value="0.00001"/>
      <inertia ixx="0.00001" ixy="0" ixz="0" iyy="0.00001" iyz="0" izz="0.00001"/>
    </inertial>
    <visual>
      <origin rpy="0 1.57 0" xyz=".01905 0 0"/>
      <geometry>
        <cylinder length=".03810" radius="0.001"/>
      </geometry>
      <material name="fourbar">
        <color rgba=".6353 .6353 .6353 1"/>
      </material>
    </visual>
  </link>
  <link name="finger_middle_fourbar_3_link_3">
    <inertial>
      <mass value="0.00001"/>
      <inertia ixx="0.00001" ixy="0" ixz="0" iyy="0.00001" iyz="0" izz="0.00001"/>
    </inertial>
    <visual>
      <origin rpy="0 1.57 0" xyz=".00635 0 0"/>
      <geometry>
        <cylinder length=".01270" radius="0.001"/>
      </geometry>
      <material name="fourbar">
        <color rgba=".6353 .6353 .6353 1"/>
      </material>
    </visual>
  </link>
  <link name="finger_middle_fourbar_linkage">
    <inertial>
      <mass value="0.00001"/>
      <inertia ixx="0.00001" ixy="0" ixz="0" iyy="0.00001" iyz="0" izz="0.00001"/>
    </inertial>
    <visual>
      <origin rpy="0 1.57 0" xyz=".007618 0 0"/>
      <geometry>
        <cylinder length=".015236" radius="0.001"/>
      </geometry>
      <material name="fourbar">
        <color rgba=".6353 .6353 .6353 1"/>
      </material>
    </visual>
  </link>
  <joint name="finger_middle_joint_0" type="revolute">
    <parent link="finger_middle_link_0"/>
    <child link="finger_middle_link_1"/>
    <axis xyz="0 0 1"/>
    <origin rpy="0 0 0" xyz="0.020 0 0"/>
    <limit effort="100" lower="0" upper="1.055" velocity="100"/>
  </joint>
  <joint name="finger_middle_joint_1" type="revolute">
    <parent link="finger_middle_link_1"/>
    <child link="finger_middle_link_2"/>
    <axis xyz="0 0 1"/>
    <origin rpy="0 0 -0.52" xyz="0.050 -.028 0"/>
    <limit effort="100" lower="0" upper="1.5708" velocity="100"/>
  </joint>
  <joint name="finger_middle_joint_2" type="revolute">
    <parent link="finger_middle_link_2"/>
    <child link="finger_middle_link_3"/>
    <axis xyz="0 0 1"/>
    <origin rpy="0 0 0" xyz="0.039 0 0"/>
    <limit effort="100" lower="-0.7854" upper="3.1416" velocity="100"/>
  </joint>
  <joint name="finger_middle_fourbar_0_joint_0" type="revolute">
    <axis xyz="0 0 1"/>
    <parent link="finger_middle_link_0"/>
    <child link="finger_middle_fourbar_0_link_1"/>
    <origin rpy="0 0 0" xyz="0.020 0 0"/>
    <limit effort="100" lower="-2.10" upper="-0.255" velocity="100"/>
  </joint>
  <joint name="finger_middle_fourbar_0_joint_1" type="continuous">
    <axis xyz="0 0 1"/>
    <parent link="finger_middle_fourbar_0_link_1"/>
    <child link="finger_middle_fourbar_0_link_2"/>
    <origin rpy="0 0 0" xyz=".02858 0 0"/>
    <limit effort="100" lower="1.092" upper="1.940" velocity="100"/>
  </joint>
  <joint name="finger_middle_fourbar_0_joint_2" type="continuous">
    <axis xyz="0 0 1"/>
    <parent link="finger_middle_link_1"/>
    <child link="finger_middle_fourbar_0_link_3"/>
    <origin rpy="0 0 -0.52" xyz="0.050 -.028 0"/>
    <limit effort="100" lower="-2.111" upper="-0.199" velocity="100"/>
  </joint>
  <loop_joint name="finger_middle_fourbar_0_joint_3" type="continuous">
    <axis xyz="0 0 1"/>
    <link1 link="finger_middle_fourbar_0_link_2" rpy="0 0 0" xyz=".05398 0 0"/>
    <link2 link="finger_middle_fourbar_0_link_3" rpy="0 0 0" xyz=".01473 0 0"/>
  </loop_joint>
  <joint name="finger_middle_fourbar_3_joint_0" type="continuous">
    <axis xyz="0 0 1"/>
    <parent link="finger_middle_link_2"/>
    <child link="finger_middle_fourbar_3_link_1"/>
    <origin rpy="0 0 0" xyz="0 0 0"/>
    <limit effort="100" lower="-1.367" upper="-0.945" velocity="100"/>
  </joint>
  <joint name="finger_middle_fourbar_3_joint_1" type="continuous">
    <axis xyz="0 0 1"/>
    <parent link="finger_middle_fourbar_3_link_1"/>
    <child link="finger_middle_fourbar_3_link_2"/>
    <origin rpy="0 0 0" xyz="0.02222 0 0"/>
    <limit effort="100" lower="1.235" upper="1.613" velocity="100"/>
  </joint>
  <joint name="finger_middle_fourbar_3_joint_2" type="continuous">
    <axis xyz="0 0 1"/>
    <parent link="finger_middle_link_3"/>
    <child link="finger_middle_fourbar_3_link_3"/>
    <origin rpy="0 0 0" xyz="0 0 0"/>
    <limit effort="100" lower="-1.367" upper="-0.995" velocity="100"/>
  </joint>
  <loop_joint name="finger_middle_fourbar_3_joint_3" type="continuous">
    <axis xyz="0 0 1"/>
    <link1 link="finger_middle_fourbar_3_link_3" rpy="0 0 0" xyz="0.01270 0 0"/>
    <link2 link="finger_middle_fourbar_3_link_2" rpy="0 0 0" xyz="0.03810 0 0"/>
  </loop_joint>
  <joint name="finger_middle_fourbar_linkage_joint_0" type="continuous">
    <axis xyz="0 0 1"/>
    <parent link="finger_middle_fourbar_0_link_3"/>
    <child link="finger_middle_fourbar_linkage"/>
    <origin rpy="0 0 0" xyz=".01473 0 0"/>
    <limit effort="100" lower="1.4" upper="1.5" velocity="100"/>
  </joint>
  <loop_joint name="finger_middle_fourbar_linkage_joint_1" type="continuous">
    <axis xyz="0 0 1"/>
    <link1 link="finger_middle_fourbar_linkage" rpy="0 0 0" xyz=".015236 0 0"/>
    <link2 link="finger_middle_fourbar_3_link_1" rpy="0 0 0" xyz=".02222 0 0"/>
  </loop_joint>
  <gazebo reference="finger_middle_link_0">
    <material>Gazebo/FlatBlack</material>
    <turnGravityOff>true</turnGravityOff>
  </gazebo>
  <gazebo reference="finger_middle_link_1">
    <material>Gazebo/FlatBlack</material>
    <turnGravityOff>true</turnGravityOff>
  </gazebo>
  <gazebo reference="finger_middle_link_2">
    <material>Gazebo/FlatBlack</material>
    <turnGravityOff>true</turnGravityOff>
  </gazebo>
  <gazebo reference="finger_middle_link_3">
    <material>Gazebo/FlatBlack</material>
    <turnGravityOff>true</turnGravityOff>
  </gazebo>
  <gazebo reference="finger_middle_fourbar_0_link_1">
    <material>Gazebo/FlatBlack</material>
    <turnGravityOff>true</turnGravityOff>
  </gazebo>
  <gazebo reference="finger_middle_fourbar_0_link_2">
    <material>Gazebo/FlatBlack</material>
    <turnGravityOff>true</turnGravityOff>
  </gazebo>
  <gazebo reference="finger_middle_fourbar_0_link_3">
    <material>Gazebo/FlatBlack</material>
    <turnGravityOff>true</turnGravityOff>
  </gazebo>
  <gazebo reference="finger_middle_fourbar_3_link_1">
    <material>Gazebo/FlatBlack</material>
    <turnGravityOff>true</turnGravityOff>
  </gazebo>
  <gazebo reference="finger_middle_fourbar_3_link_2">
    <material>Gazebo/FlatBlack</material>
    <turnGravityOff>true</turnGravityOff>
  </gazebo>
  <gazebo reference="finger_middle_fourbar_3_link_3">
    <material>Gazebo/FlatBlack</material>
    <turnGravityOff>true</turnGravityOff>
  </gazebo>
  <gazebo reference="finger_middle_fourbar_linkage">
    <material>Gazebo/FlatBlack</material>
    <turnGravityOff>true</turnGravityOff>
  </gazebo>
  <transmission name="finger_middle_fourbar_0_joint_0_trans" type="SimpleTransmission">
    <actuator name="finger_middle_control_torque"/>
    <joint name="finger_middle_fourbar_0_joint_0"/>
    <mechanicalReduction>1</mechanicalReduction>
  </transmission>
  <link name="palm">
    <visual>
      <geometry>
        <mesh filename="package://Atlas/urdf/meshes/s-model_articulated/visual/palm.STL"/>
      </geometry>
      <material name="black">
        <color rgba=".2 .2 .2 1"/>
      </material>
    </visual>
    <collision>
      <origin rpy="0 0 0" xyz="0 .046 0"/>
      <geometry>
        <box size=".1 .01 .1"/>
      </geometry>
      <material name="yellow">
        <color rgba="0 1 1 1"/>
      </material>
    </collision>
  </link>
  <inertial>
    <origin rpy="0 0 0" xyz="0 0 0"/>
    <mass value="1.3"/>
    <inertia ixx="0.006012" ixy="0.000079" ixz="-0.00024" iyy="0.012892" iyz="0" izz="0.002435"/>
  </inertial>
  <joint name="palm_finger_1_joint" type="fixed">
    <parent link="palm"/>
    <child link="finger_1_link_0"/>
    <axis xyz="0 1 0"/>
    <origin rpy="0 3.1416 -1.57" xyz="-0.0455 0.0214 0.036"/>
    <!--<limit lower="-0.16" upper="0.25" effort="100" velocity="100"/>-->
  </joint>
  <joint name="palm_finger_2_joint" type="fixed">
    <parent link="palm"/>
    <child link="finger_2_link_0"/>
    <axis xyz="0 1 0"/>
    <origin rpy="0 3.1416 -1.57" xyz="-0.0455 0.0214 -0.036"/>
    <!--<limit lower="-0.25" upper="0.16" effort="100" velocity="100"/>-->
  </joint>
  <joint name="palm_finger_middle_joint" type="fixed">
    <parent link="palm"/>
    <child link="finger_middle_link_0"/>
    <axis xyz="0 0 1"/>
    <origin rpy="0 0 1.57" xyz="0.0455 0.0214 0"/>
  </joint>
  <gazebo reference="palm">
    <material>Gazebo/FlatBlack</material>
    <turnGravityOff>true</turnGravityOff>
  </gazebo>
  <joint name="robotiq_hand_joint" type="fixed">
    <origin rpy="0.0 0.0 -1.57079" xyz="0.11904 0 0"/>
    <parent link="link_6"/>
    <child link="palm"/>
  </joint>
</robot>
